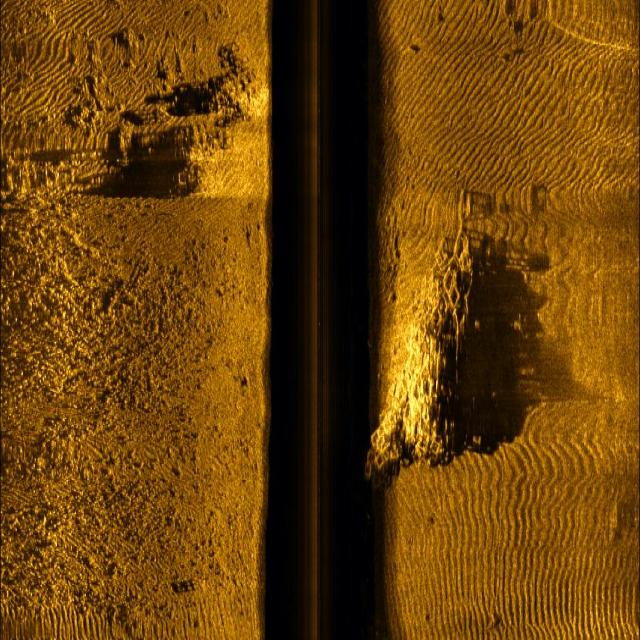artificial reef: (363, 234, 475, 488)
